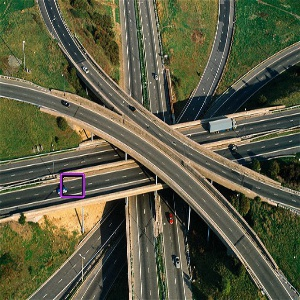square: (57, 171, 87, 201)
